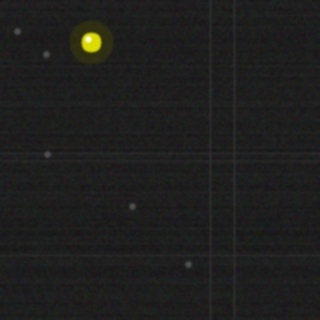yellow_warning: (79, 30, 103, 54)
